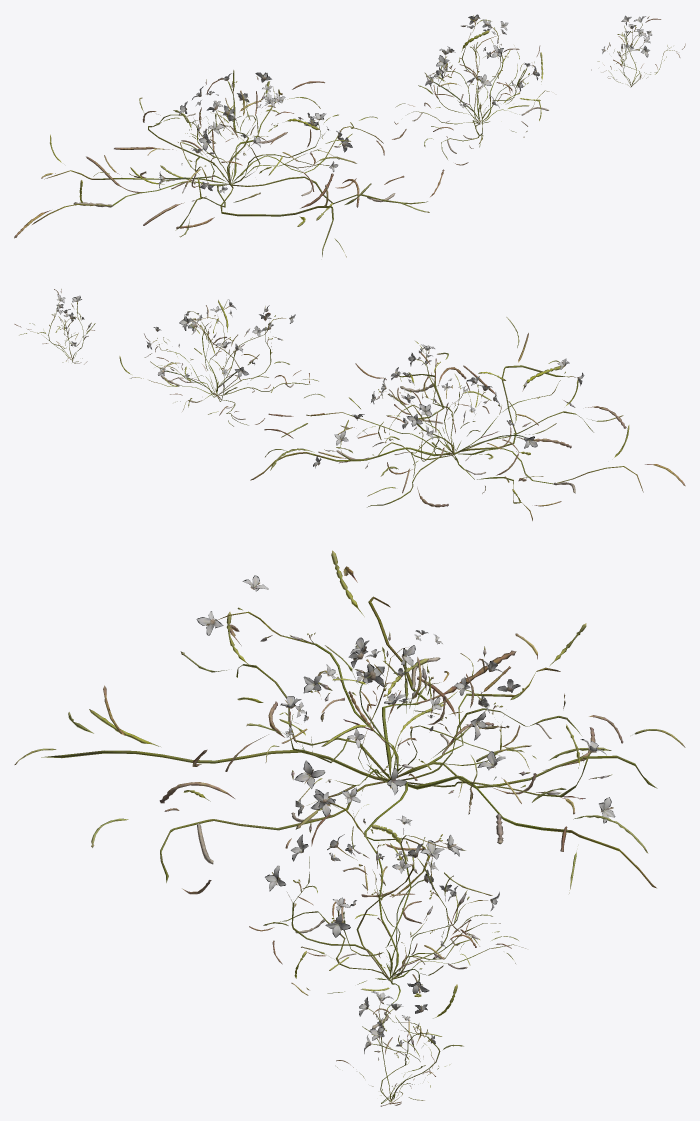
File: flower_heliophila.glb
3 renders of one model, top to bottom at view 1: azimuth 30°, elevation 25°; view 2: azimuth 150°, elevation 25°; view 3: azimuth 270°, elevation 25°, orthographic. The views are drawn at different scales.
Parts seen in each view (by area): view 1: flower_heliophila_large, flower_heliophila_medium, flower_heliophila_small; view 2: flower_heliophila_large, flower_heliophila_medium, flower_heliophila_small; view 3: flower_heliophila_large, flower_heliophila_medium, flower_heliophila_small.
Part boxes in pixels (left/top/right/bottom): flower_heliophila_large: left=14, top=70, right=444, bottom=257; flower_heliophila_medium: left=394, top=14, right=549, bottom=165; flower_heliophila_small: left=591, top=15, right=685, bottom=87; flower_heliophila_large: left=250, top=317, right=685, bottom=520; flower_heliophila_medium: left=119, top=299, right=318, bottom=426; flower_heliophila_small: left=14, top=289, right=95, bottom=364; flower_heliophila_large: left=14, top=550, right=685, bottom=923; flower_heliophila_medium: left=249, top=787, right=525, bottom=1044; flower_heliophila_small: left=335, top=991, right=463, bottom=1106.
Bounding box in the file's own units: 2.75 × 0.3993 × 1.41.
Materials: 1 (1 with a texture image).
